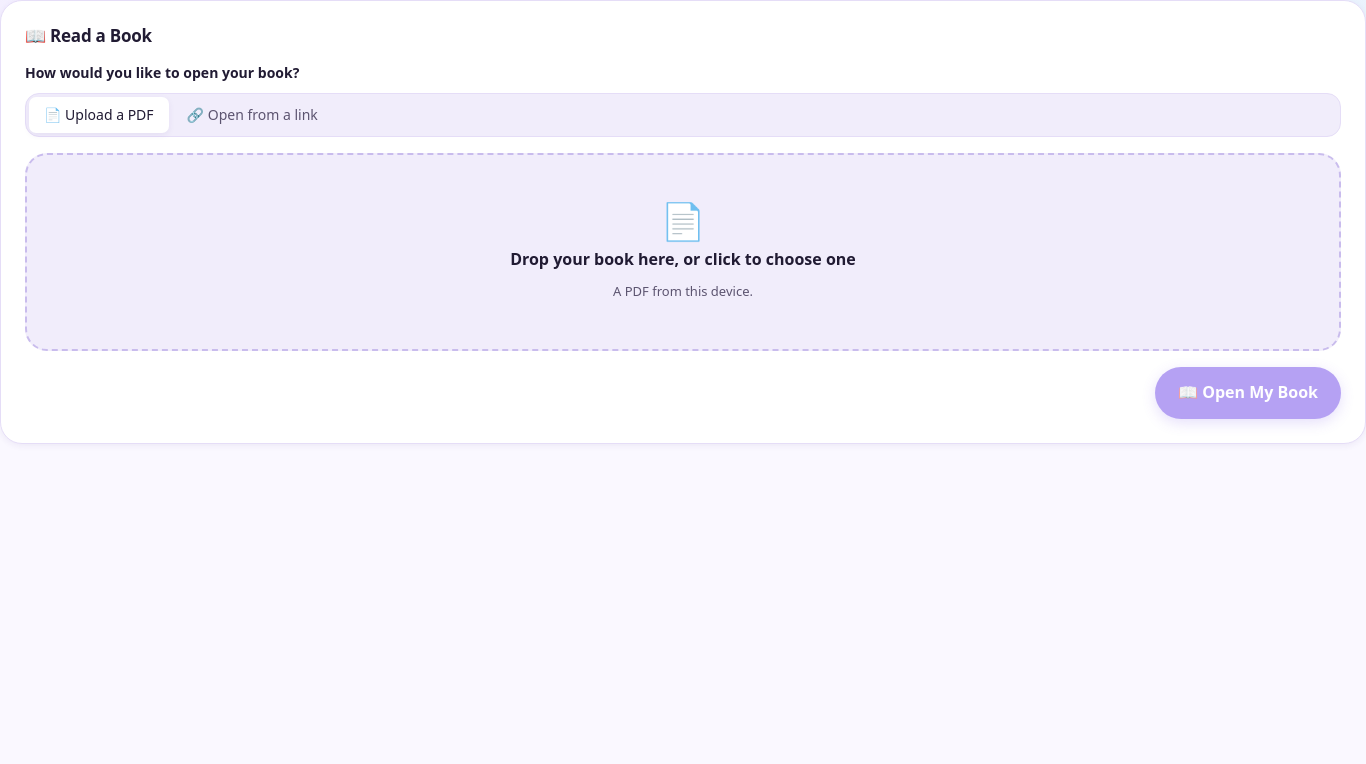
BookReaderForm › loads a book from a URL
Click the button with test id "book-source-url" at (252, 115), box [172,97,333,133]
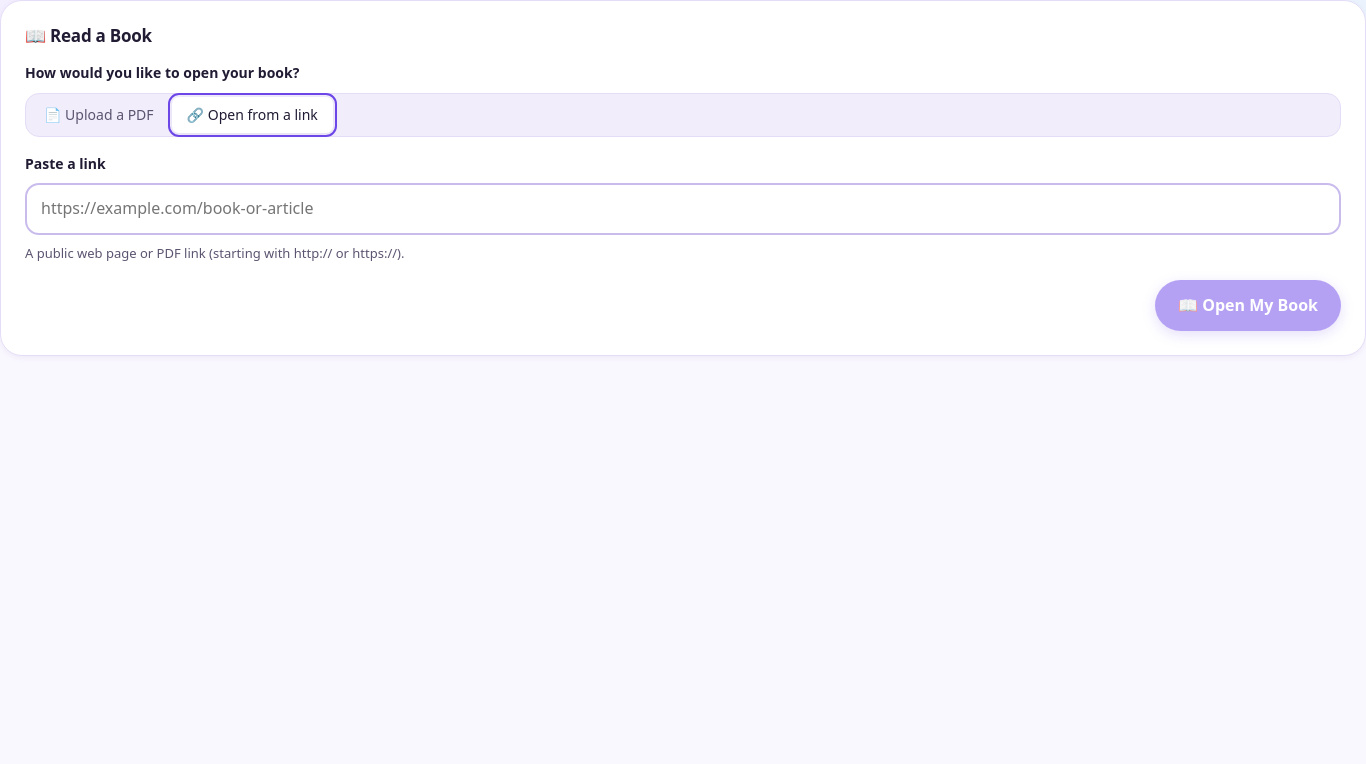
Type "https://example.com/book.pdf" into the field with test id "book-url-input" at (683, 209), box [25,183,1341,235]
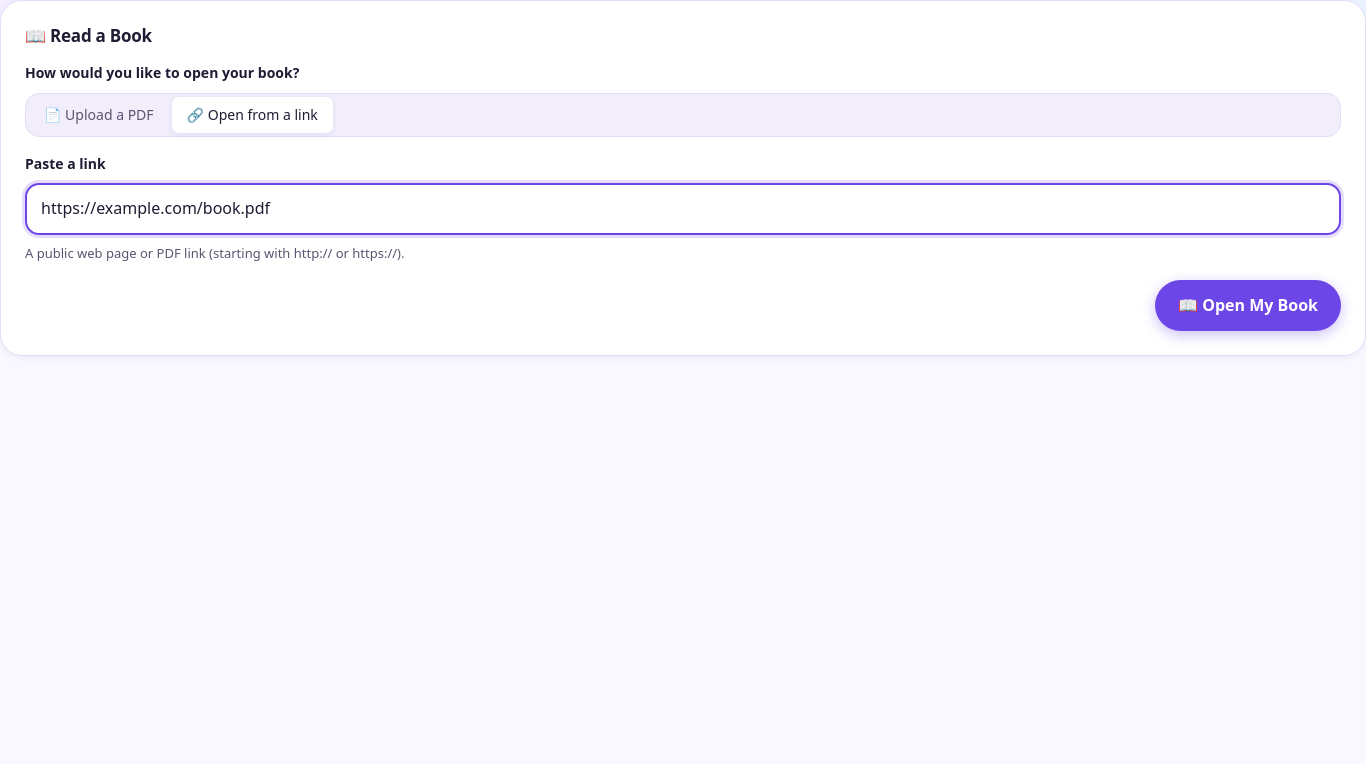
Click the button with test id "load-book-submit" at (1248, 306), box [1155,280,1341,331]
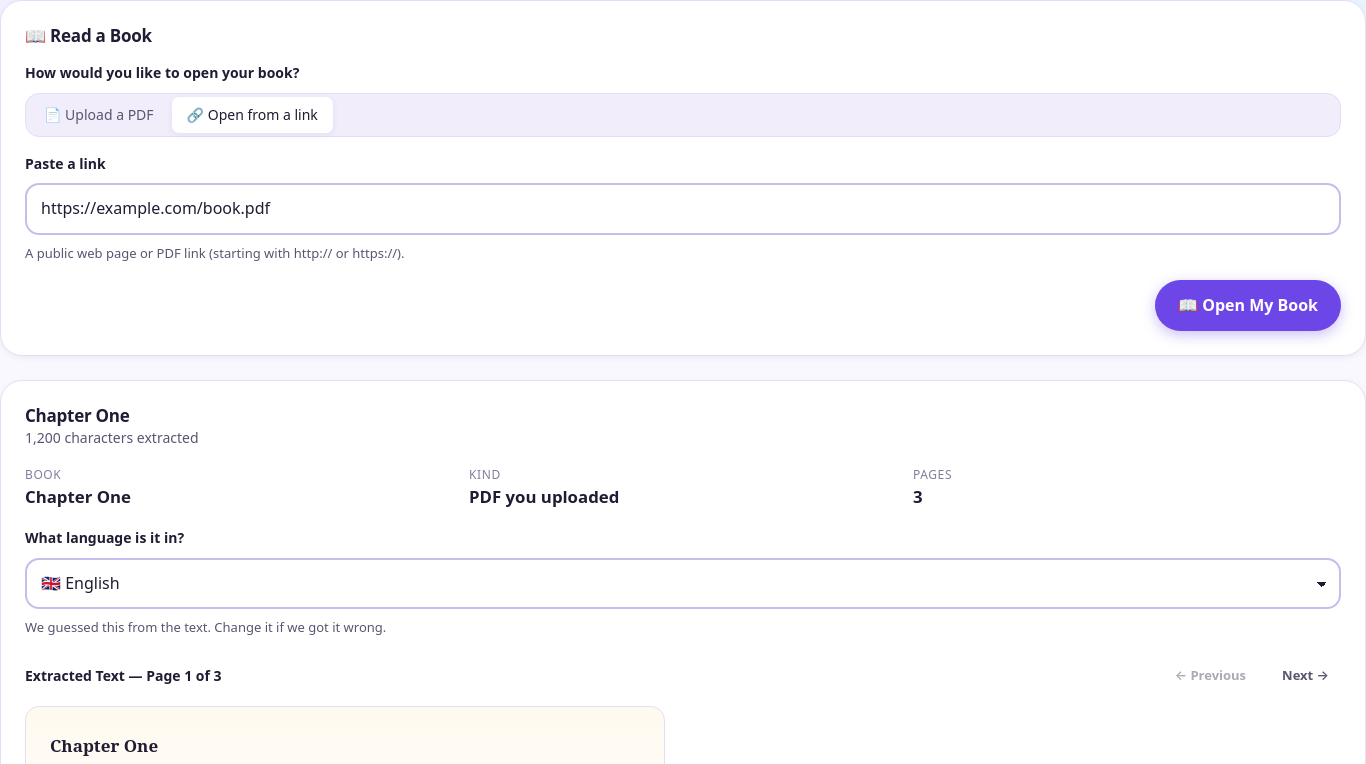
expect the heading "Chapter One" is shown: met, box [25,404,130,427]
